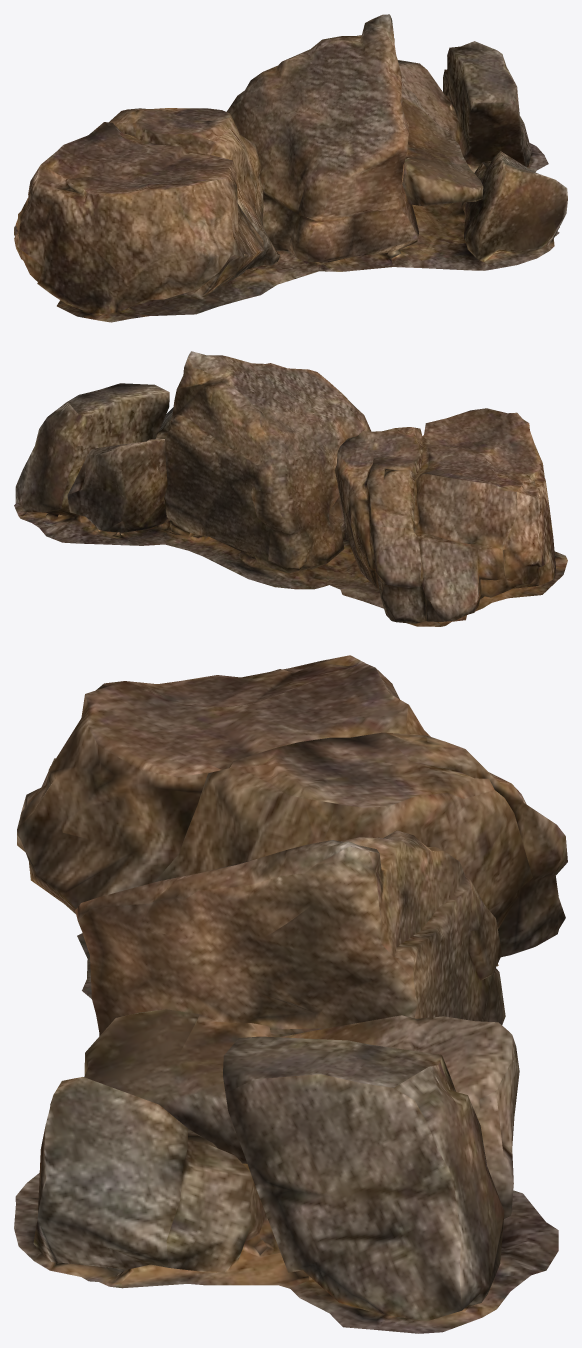
File: rock_boulder_flat.glb
3 views of the same model, one above another, from view 1: azimuth 30°, elevation 25°; view 2: azimuth 150°, elevation 25°; view 3: azimuth 270°, elevation 25° (orthographic). The views are drawn at different scales.
Parts seen in each view (by area): view 1: boulder_02; view 2: boulder_02; view 3: boulder_02.
Boxes of the visible parts, bbox=[...] form: boulder_02: bbox=[14, 14, 567, 322]; boulder_02: bbox=[14, 351, 567, 626]; boulder_02: bbox=[14, 655, 567, 1333].
Bounding box in the file's own units: 2.53 × 0.8826 × 1.23.
Materials: 1 (1 with a texture image).
